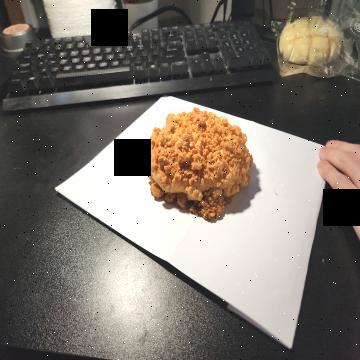soboru_bread: (150, 108, 250, 220)
